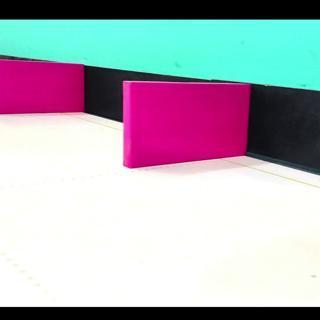xparking: (130, 84, 250, 169), (0, 64, 84, 113)
